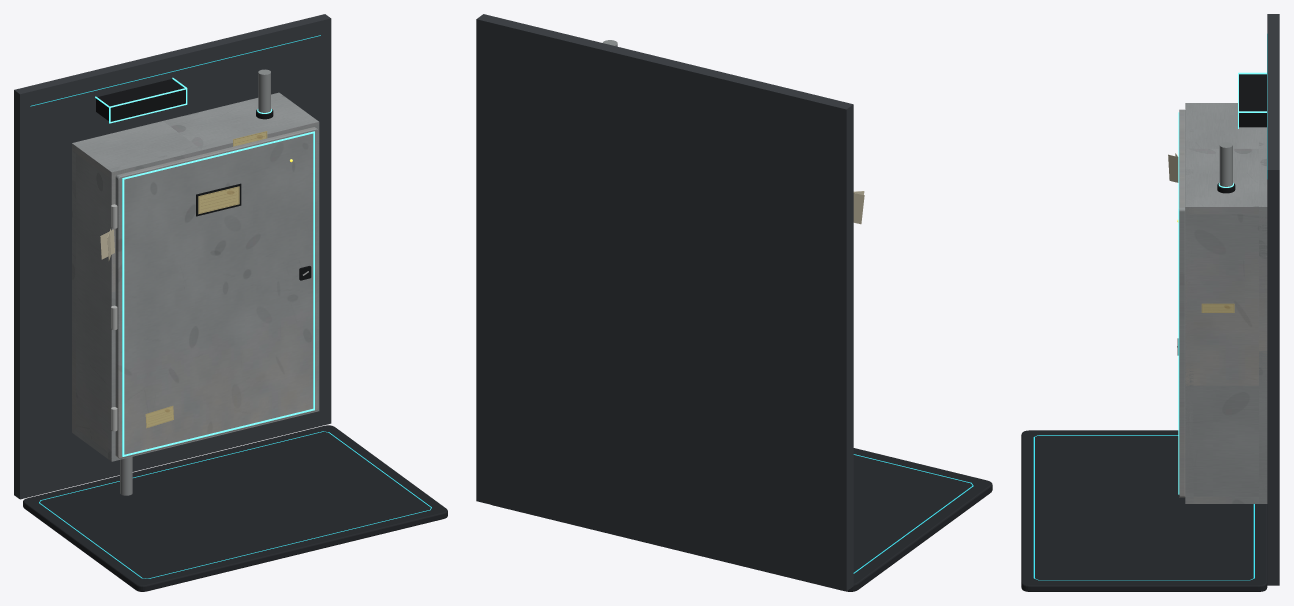
Rendered from rec-quadro-eletrico.glb.
The picture shows the model from 3 angles, left to right: view 1: azimuth 30°, elevation 25°; view 2: azimuth 150°, elevation 25°; view 3: azimuth 270°, elevation 25°; orthographic projection. The views are drawn at different scales.
Parts seen in each view (by area): view 1: quadro_porta_folha, parede, base_peca, quadro_lateral_esq, quadro_topo, luz_emergencia_caixa, quadro_traseira, base_peca_linha, quadro_porta_neon_esq, quadro_porta_janela_etiqueta, quadro_moldura_topo, quadro_fundo; view 2: parede, base_peca; view 3: base_peca, quadro_lateral_dir, parede, quadro_topo, quadro_traseira, quadro_porta_folha, luz_emergencia_caixa, quadro_moldura_dir, base_peca_linha, quadro_moldura_topo, conduite_superior, quadro_fundo (+1 smaller).
Boxes of the visible parts, bbox=[...] form: quadro_porta_folha: bbox=[115, 127, 318, 458]; parede: bbox=[14, 14, 331, 499]; base_peca: bbox=[23, 425, 447, 591]; quadro_lateral_esq: bbox=[76, 153, 115, 454]; quadro_topo: bbox=[72, 93, 319, 179]; luz_emergencia_caixa: bbox=[96, 79, 185, 121]; quadro_traseira: bbox=[72, 92, 282, 434]; base_peca_linha: bbox=[39, 431, 431, 578]; quadro_porta_neon_esq: bbox=[122, 179, 124, 455]; quadro_porta_janela_etiqueta: bbox=[198, 186, 239, 214]; quadro_moldura_topo: bbox=[108, 123, 319, 182]; quadro_fundo: bbox=[72, 404, 319, 461]; parede: bbox=[476, 14, 853, 591]; base_peca: bbox=[492, 448, 992, 591]; base_peca: bbox=[1021, 430, 1267, 591]; quadro_lateral_dir: bbox=[1185, 214, 1267, 496]; parede: bbox=[1267, 14, 1279, 585]; quadro_topo: bbox=[1185, 103, 1267, 214]; quadro_traseira: bbox=[1259, 127, 1267, 503]; quadro_porta_folha: bbox=[1179, 109, 1185, 497]; luz_emergencia_caixa: bbox=[1239, 74, 1266, 127]; quadro_moldura_dir: bbox=[1185, 219, 1193, 492]; base_peca_linha: bbox=[1033, 435, 1254, 580]; quadro_moldura_topo: bbox=[1185, 103, 1193, 217]; conduite_superior: bbox=[1219, 142, 1232, 186]; quadro_fundo: bbox=[1185, 496, 1266, 503].
Bounding box in the file's own units: 0.9 × 1.14 × 0.63.
Materials: 26 (7 with a texture image).
